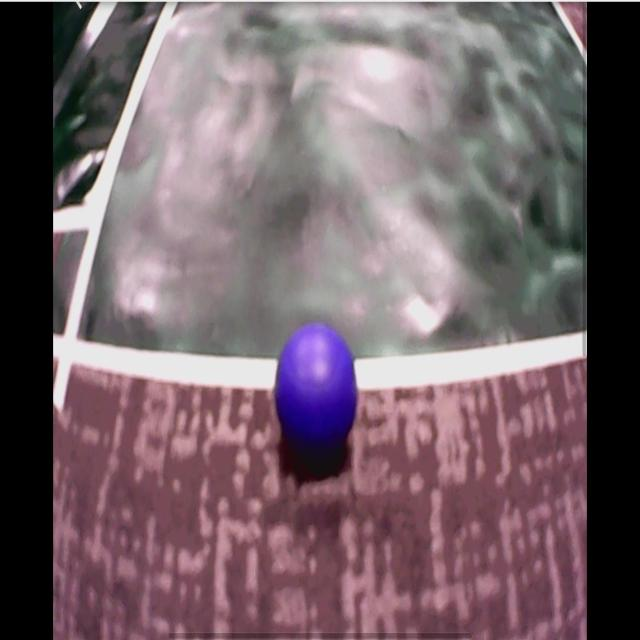ball: (275, 325, 358, 449)
